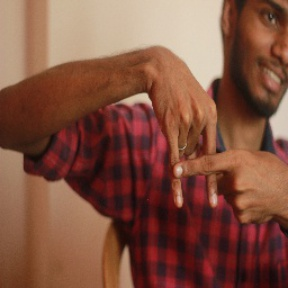H: (135, 112, 255, 226)
